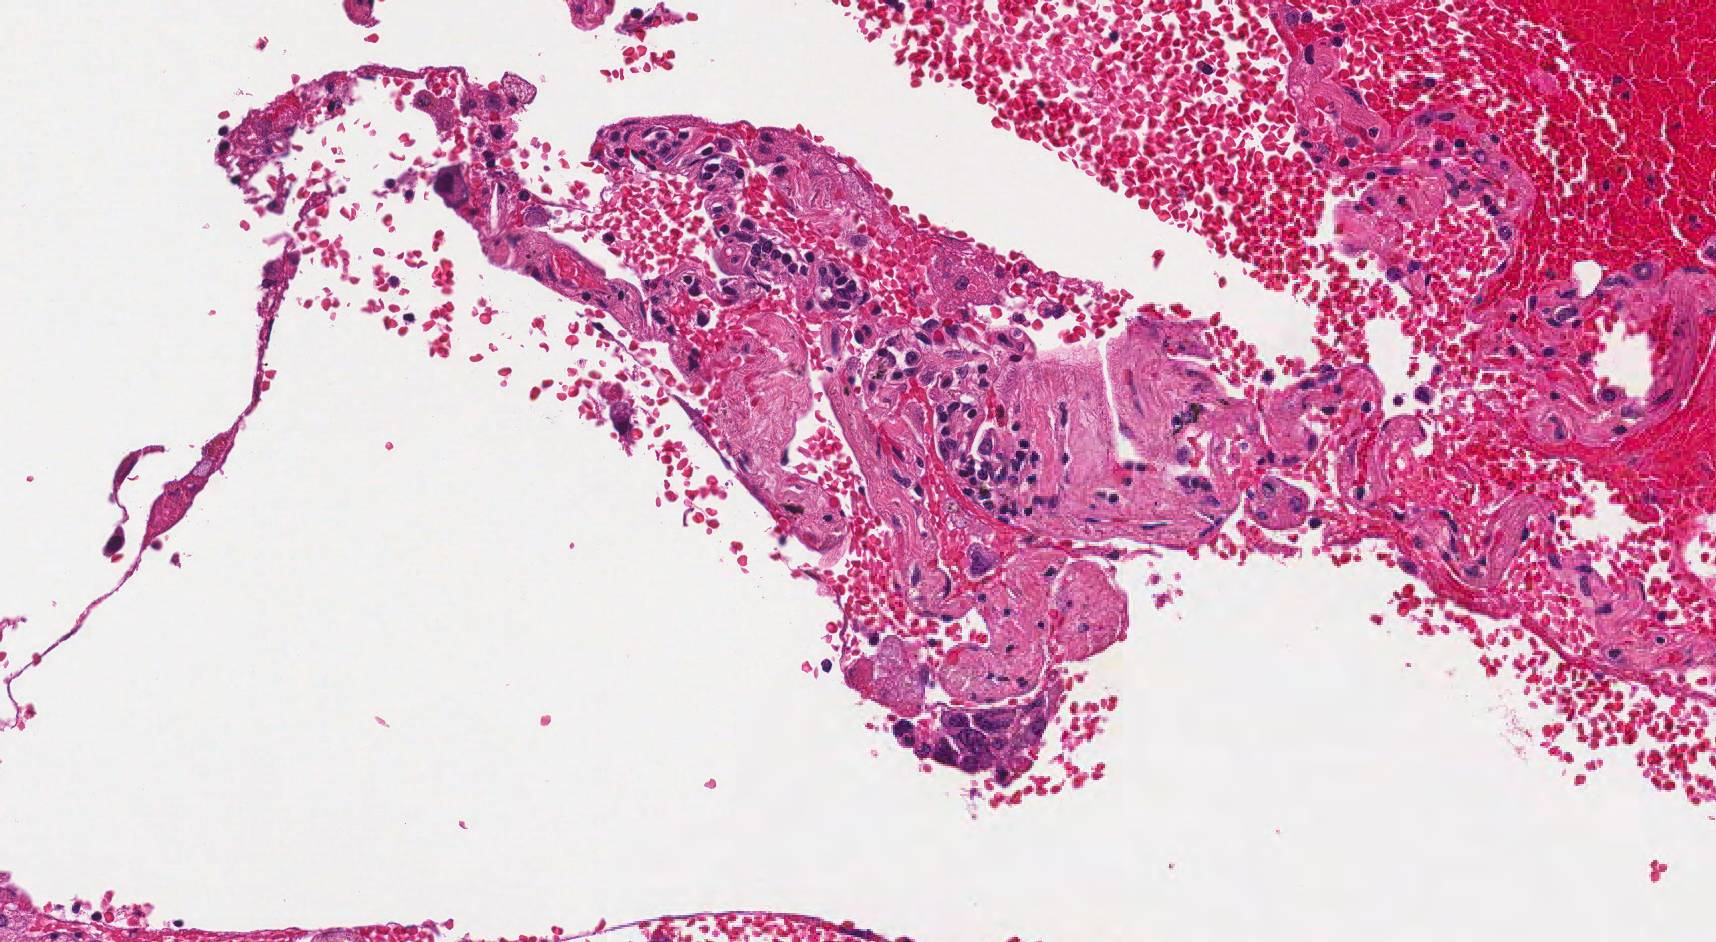stas: (893, 696, 1054, 781)
